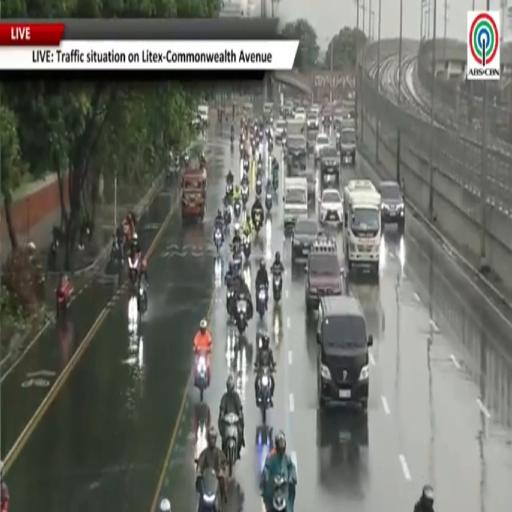car: (317, 295, 372, 410), (306, 234, 347, 312), (379, 181, 405, 233), (291, 218, 317, 264), (320, 189, 342, 226), (320, 147, 339, 188), (286, 135, 306, 170), (340, 128, 356, 165), (319, 146, 339, 172), (314, 134, 330, 162), (275, 119, 286, 143), (198, 105, 209, 126), (307, 130, 316, 154), (307, 111, 318, 130), (294, 107, 306, 120), (309, 104, 320, 117)
motorcycle: (197, 468, 221, 511), (224, 413, 239, 476), (257, 367, 272, 424), (195, 354, 209, 402), (272, 475, 288, 511), (236, 298, 247, 334), (256, 286, 267, 318), (110, 243, 123, 268), (138, 279, 147, 315), (56, 290, 67, 317), (273, 272, 282, 301), (129, 262, 138, 290), (214, 228, 223, 254), (227, 288, 235, 316), (233, 250, 242, 273), (243, 236, 251, 261), (254, 212, 262, 233), (265, 190, 272, 212), (224, 205, 231, 226), (241, 186, 248, 205), (234, 200, 241, 219), (273, 168, 278, 190), (226, 182, 233, 197), (256, 176, 261, 195), (183, 153, 189, 167), (268, 139, 273, 153), (243, 159, 248, 173), (239, 142, 244, 153)
truck: (343, 180, 381, 278), (181, 166, 206, 221), (284, 178, 308, 230)
